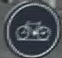bike lane: (3, 3, 58, 52)
